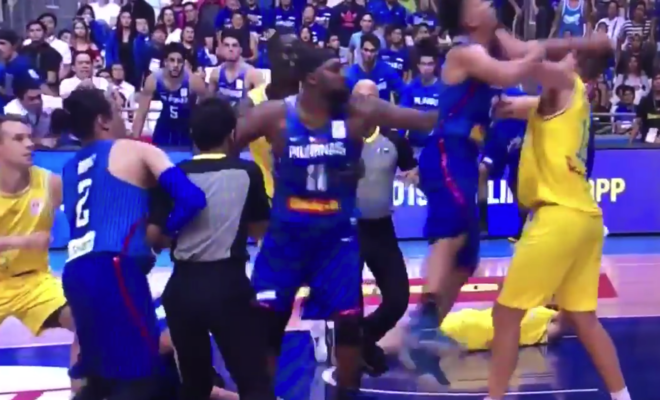player: (218, 47, 417, 395), (490, 26, 618, 400), (422, 3, 532, 383), (60, 81, 189, 400), (164, 96, 269, 400), (1, 118, 70, 341)
